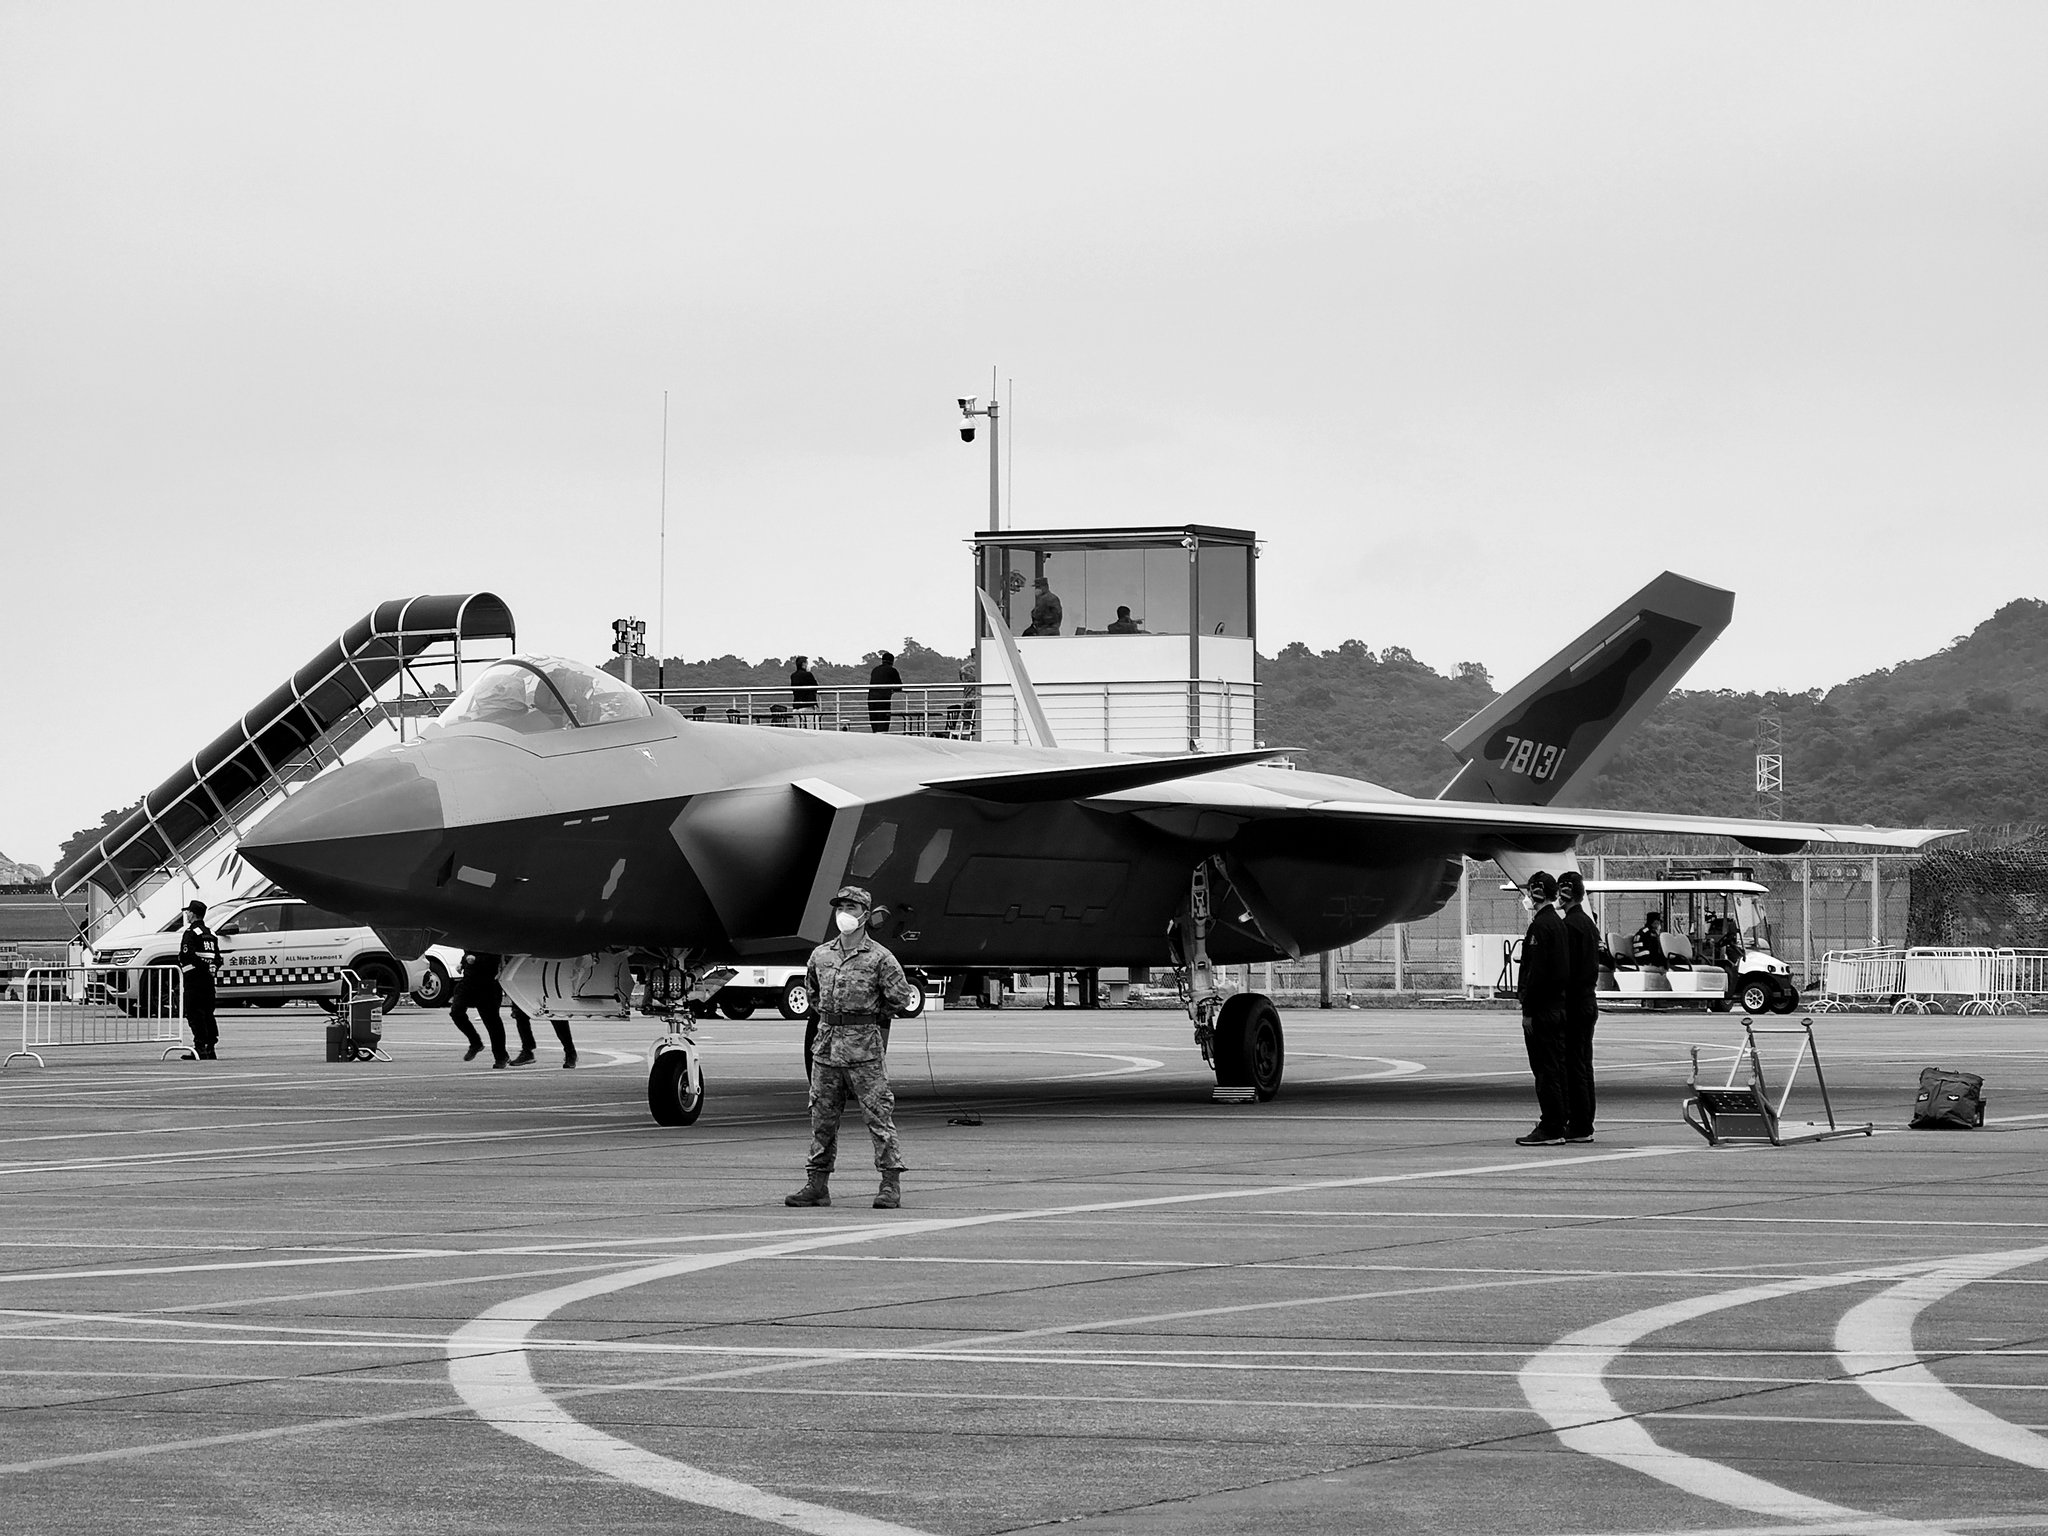J20: (232, 568, 1969, 1128)
